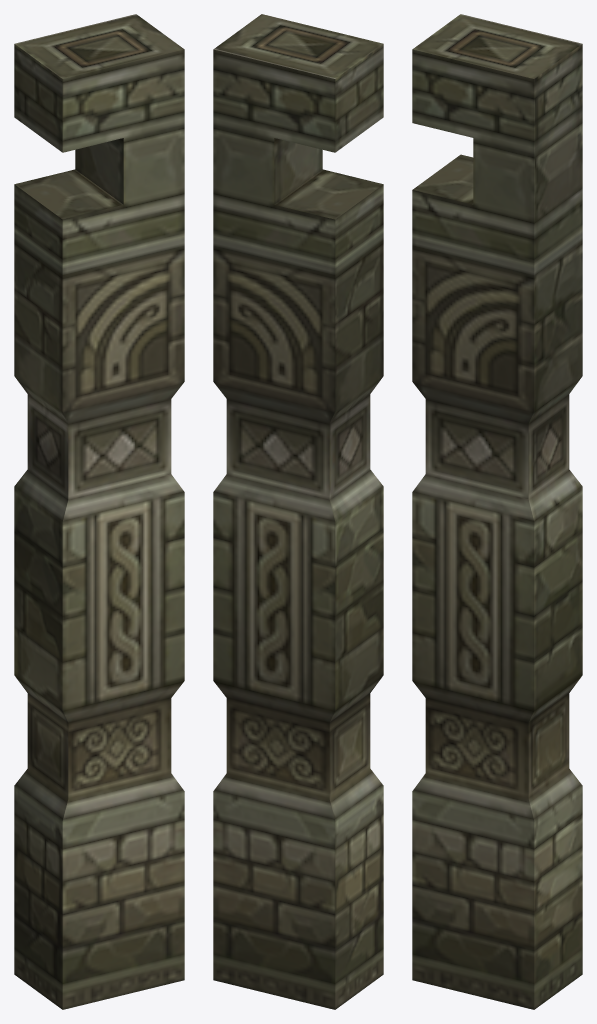
File: DN_sscx_pt02.FBX
3 views of the same model, side by side, from view 1: azimuth 30°, elevation 25°; view 2: azimuth 150°, elevation 25°; view 3: azimuth 330°, elevation 25° (orthographic).
Visible parts, largest first — view 1: DN_sscx_pt02; view 2: DN_sscx_pt02; view 3: DN_sscx_pt02.
Part boxes in pixels (x1,y1,x2,y2): DN_sscx_pt02: [14, 14, 184, 1009]; DN_sscx_pt02: [213, 14, 383, 1009]; DN_sscx_pt02: [412, 14, 582, 1009].
Bounding box in the file's own units: 391 × 2856 × 269.
